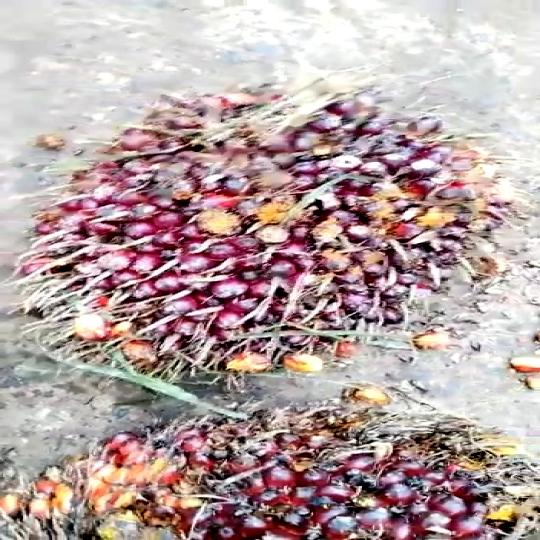masak: (41, 78, 538, 383)
